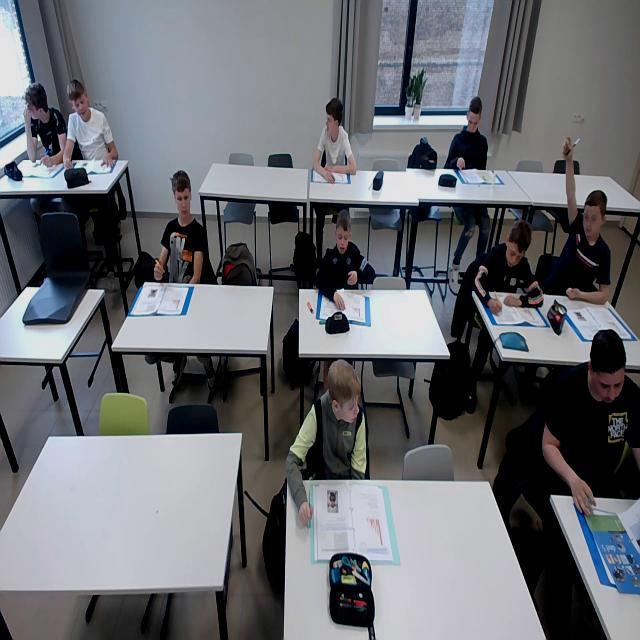Looking away: (584, 332, 634, 412), (15, 77, 52, 127), (324, 216, 360, 256), (506, 220, 530, 272), (462, 90, 483, 138)
Looking forward: (156, 170, 206, 221)
Raising hand: (554, 135, 610, 304)
Turning around: (291, 357, 384, 483), (62, 79, 121, 174), (316, 90, 349, 183)
